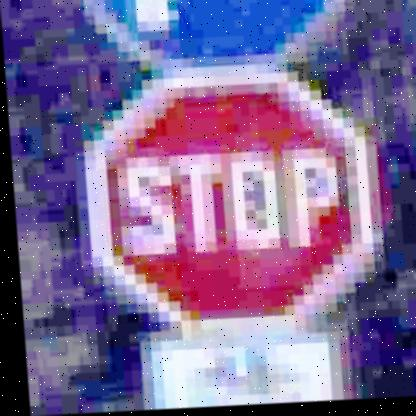Stop Sign: (74, 66, 379, 341)
